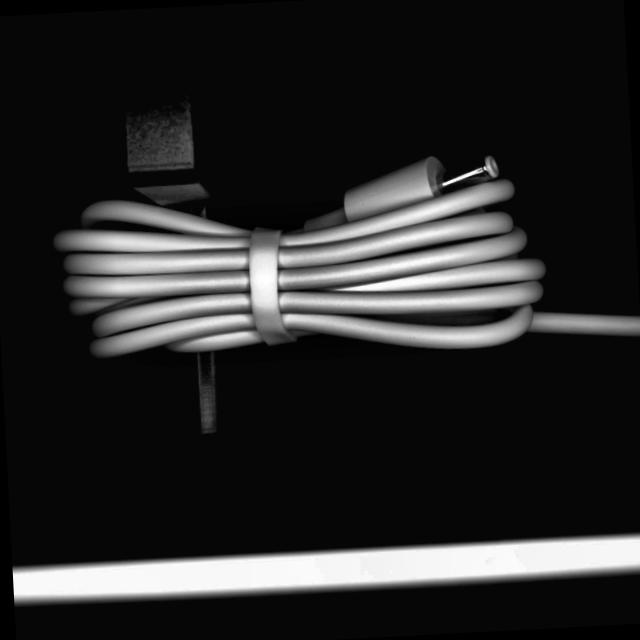Cable: (44, 139, 640, 376)
